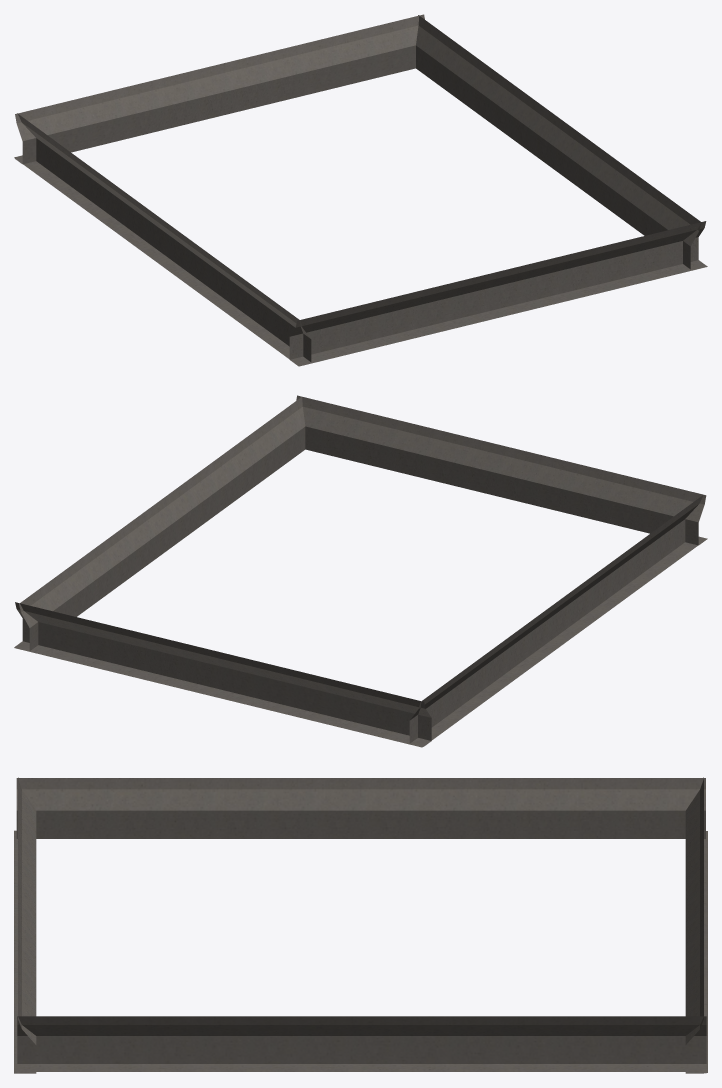
The model's file is Wall.fbx.
3 views of the same model, one above another, from view 1: azimuth 30°, elevation 25°; view 2: azimuth 150°, elevation 25°; view 3: azimuth 270°, elevation 25° (orthographic). The views are drawn at different scales.
Visible parts, largest first — view 1: wall_02, wall_04, wall_01, wall_03; view 2: wall_04, wall_02, wall_01, wall_03; view 3: wall_03, wall_01, wall_04, wall_02.
Part boxes in pixels (<box>): wall_02: <box>14,14,424,164</box>; wall_04: <box>289,221,707,366</box>; wall_01: <box>416,15,703,269</box>; wall_03: <box>16,113,311,365</box>; wall_04: <box>296,395,707,545</box>; wall_02: <box>14,602,431,747</box>; wall_01: <box>19,397,305,650</box>; wall_03: <box>409,495,706,745</box>; wall_03: <box>16,778,705,838</box>; wall_01: <box>17,1016,706,1071</box>; wall_04: <box>14,777,36,1073</box>; wall_02: <box>685,777,707,1073</box>.
Size of the model in its own units: 2486 by 259 by 3003.
